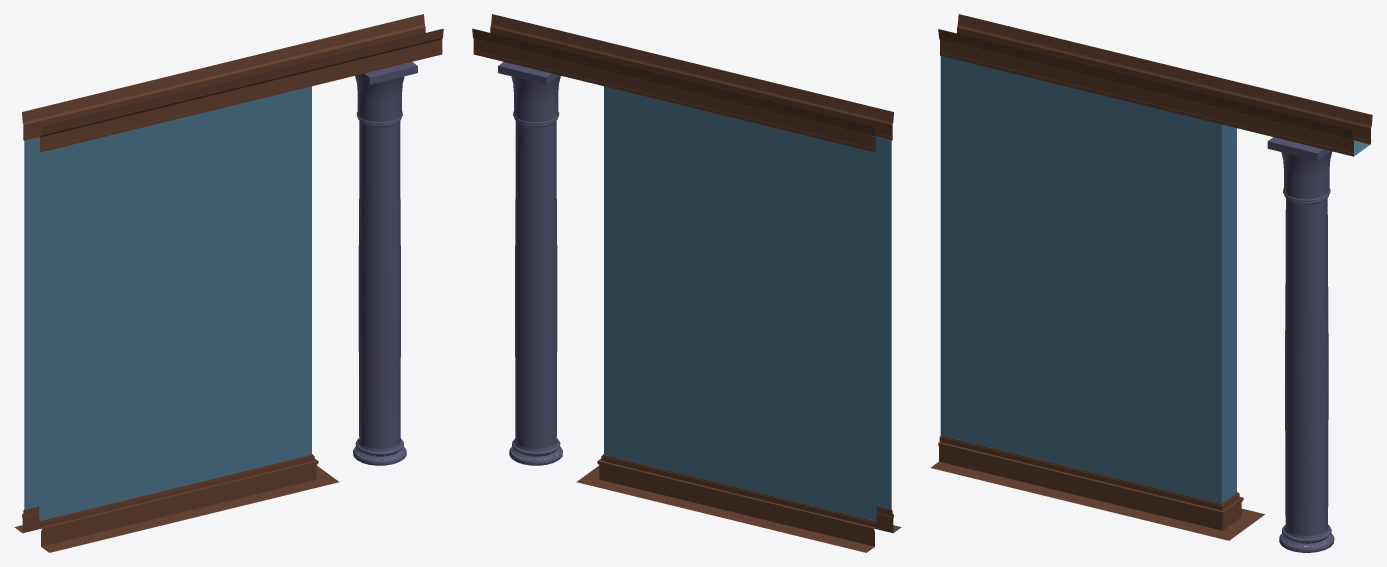
File: Tile07_fix 1.fbx
3 renders of one model, left to right at view 1: azimuth 30°, elevation 25°; view 2: azimuth 150°, elevation 25°; view 3: azimuth 330°, elevation 25°, orthographic. The views are drawn at different scales.
Visible parts, largest first — view 1: Tile7; view 2: Tile7; view 3: Tile7.
Part boxes in pixels (x1,y1,x2,y2): Tile7: (14, 14, 443, 552); Tile7: (472, 14, 901, 552); Tile7: (930, 14, 1372, 552).
Size of the model in its own units: 775 by 775 by 118.
